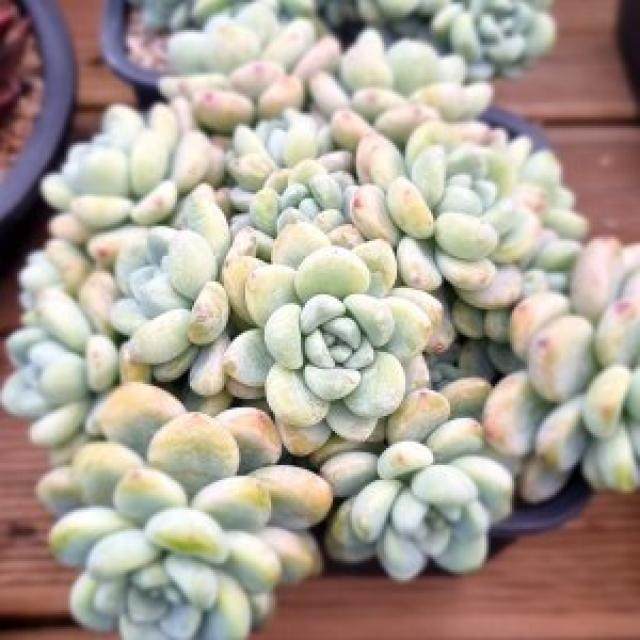LumiRose: (38, 385, 331, 640), (222, 220, 442, 441), (350, 121, 588, 309), (320, 379, 514, 579)
